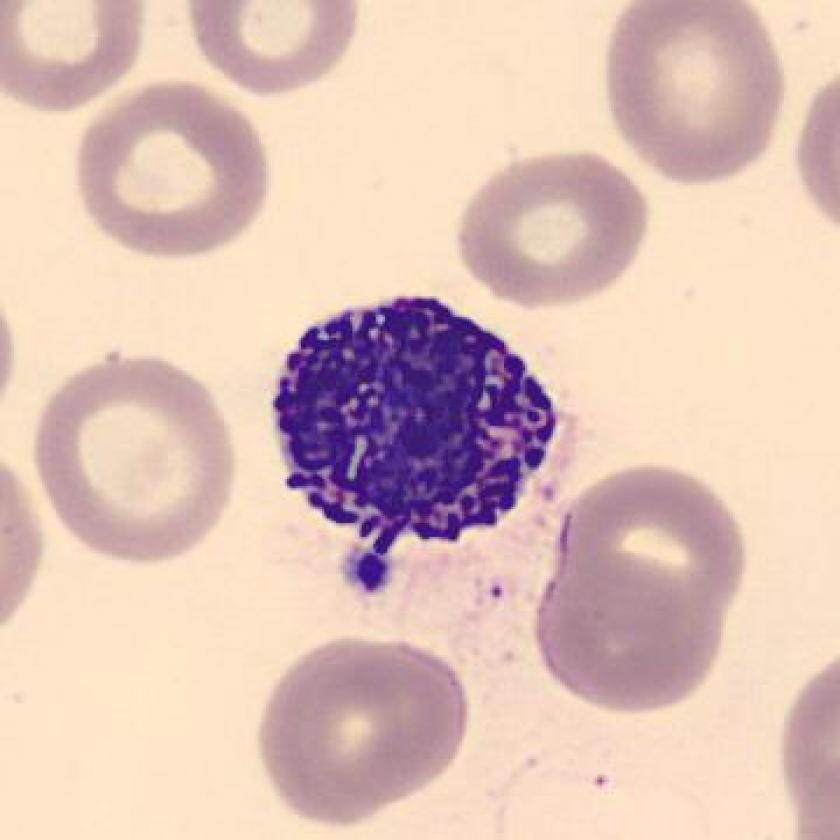basophil: (267, 295, 566, 566)
